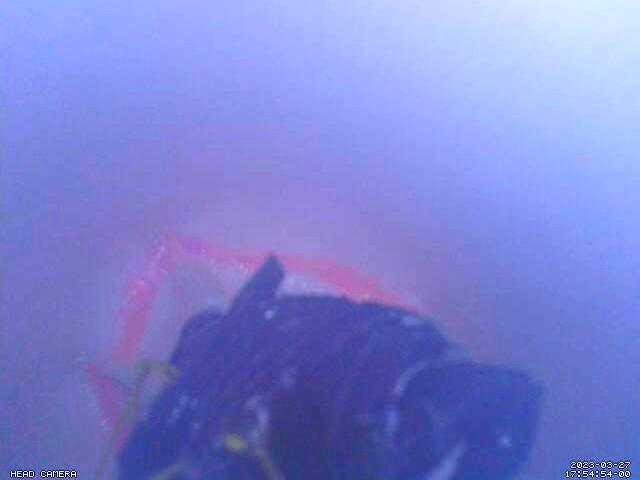head: (82, 232, 422, 448)
